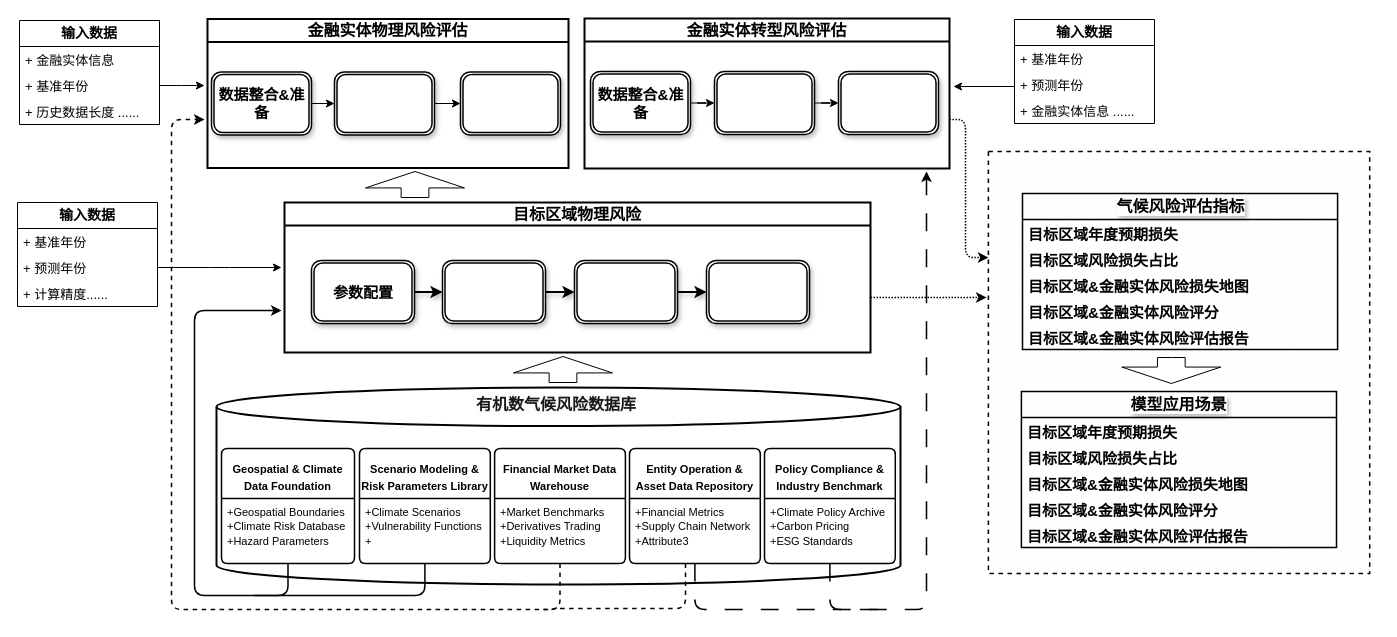
Some shapes in this 1397 by 637 pixel diagram are drawn without their labels. The shapes that lost their labels are listed below. From the top down, each one's centre as x and y in pixels, then its label:
At (385,104): "多维度风险建模".
At (511,104): "风险输出&可视化".
At (765,104): "情景建模&转型成本测算".
At (889,104): "转型风险量化&评估".
At (494,293): "致灾因子计算".
At (626,293): "暴露度与脆弱性分析".
At (758,293): "风险指标生成".
